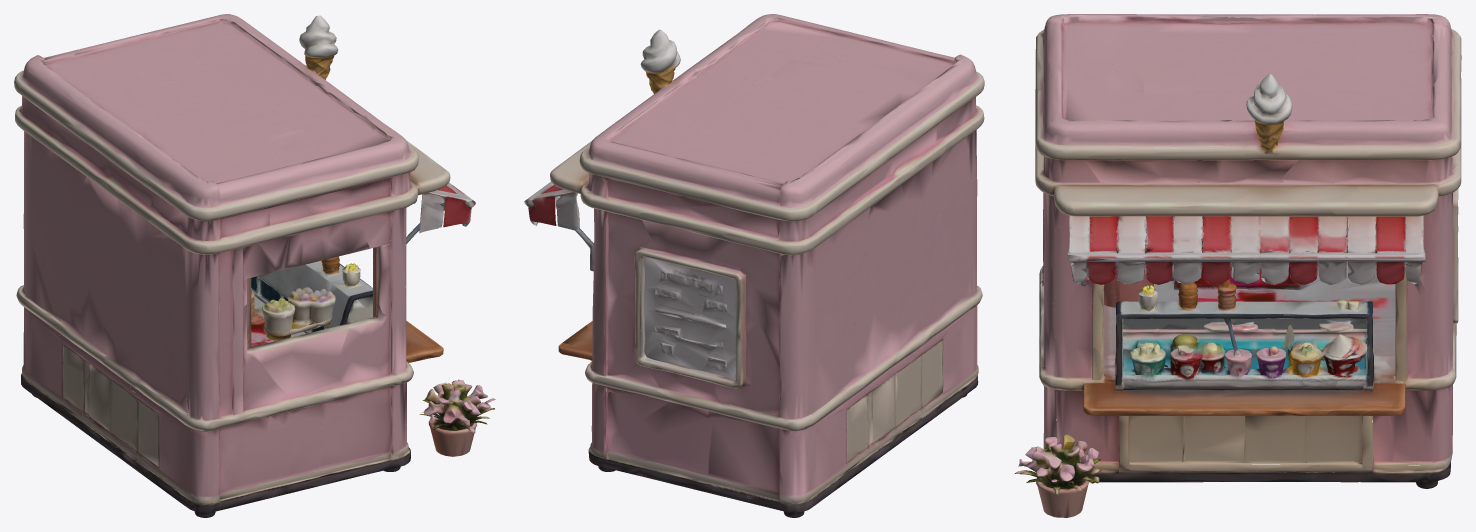
Rendered from dondurmaci.glb.
3 views of the same model, side by side, from view 1: azimuth 30°, elevation 25°; view 2: azimuth 150°, elevation 25°; view 3: azimuth 270°, elevation 25° (orthographic). The views are drawn at different scales.
Parts seen in each view (by area): view 1: tripo_node_75c8b57b-03e0-431e-999f-3e50e8b25b26; view 2: tripo_node_75c8b57b-03e0-431e-999f-3e50e8b25b26; view 3: tripo_node_75c8b57b-03e0-431e-999f-3e50e8b25b26.
Boxes of the visible parts, x1,y1,x2,y2 form: tripo_node_75c8b57b-03e0-431e-999f-3e50e8b25b26: (14,14,495,517); tripo_node_75c8b57b-03e0-431e-999f-3e50e8b25b26: (524,14,984,517); tripo_node_75c8b57b-03e0-431e-999f-3e50e8b25b26: (1014,14,1461,517).
Bounding box in the file's own units: 0.8425 × 0.9994 × 0.9622.
1 material, 1 textured.
